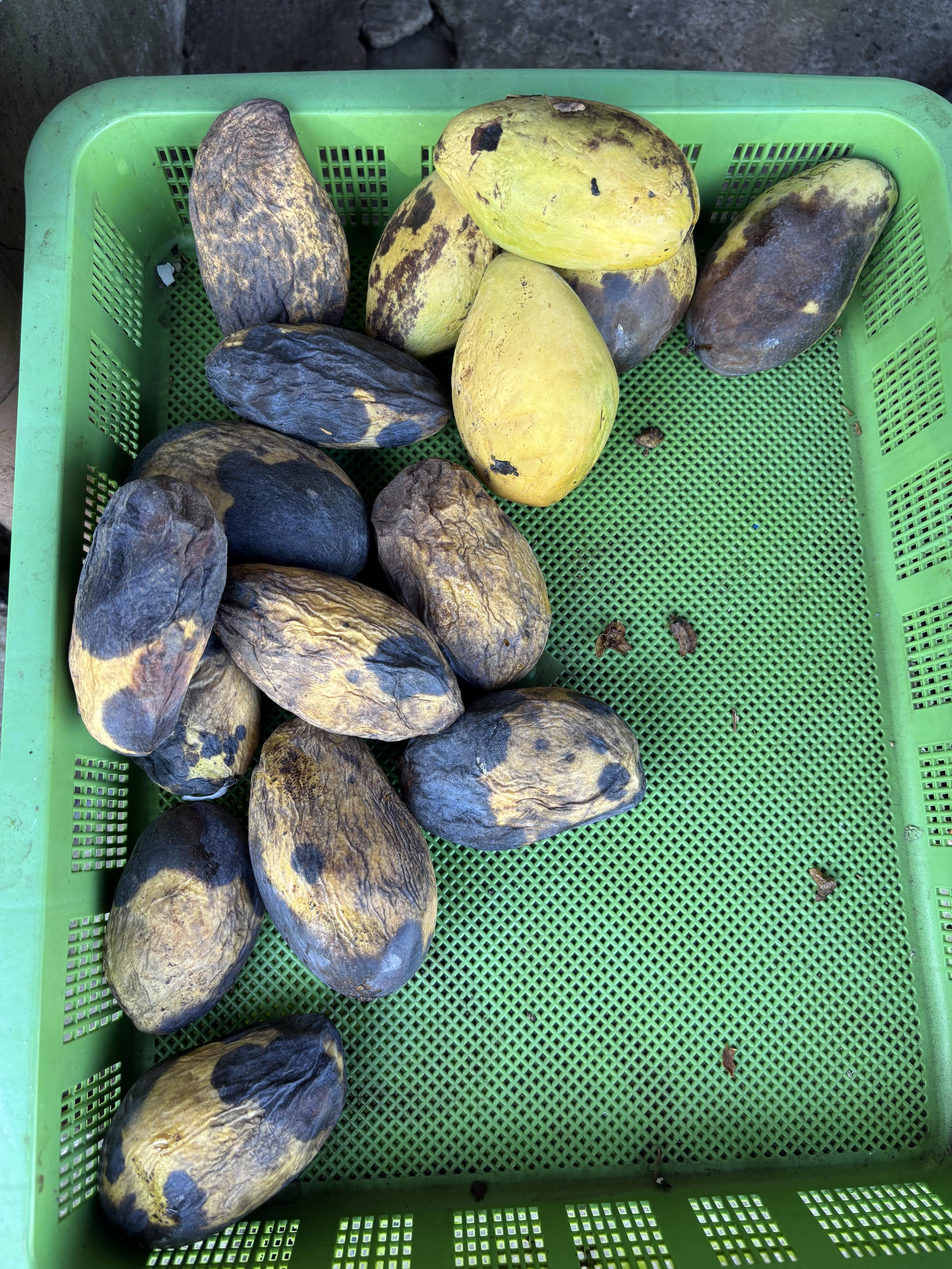mango: (99, 1013, 346, 1247), (249, 719, 437, 1001), (433, 96, 699, 270), (683, 159, 896, 376), (69, 476, 227, 755), (452, 253, 618, 506), (372, 458, 550, 690), (400, 686, 644, 850), (206, 323, 450, 448)
occluded: (215, 563, 463, 741), (190, 99, 350, 335), (126, 422, 368, 577), (104, 802, 264, 1034), (366, 172, 498, 357), (559, 238, 696, 375)
